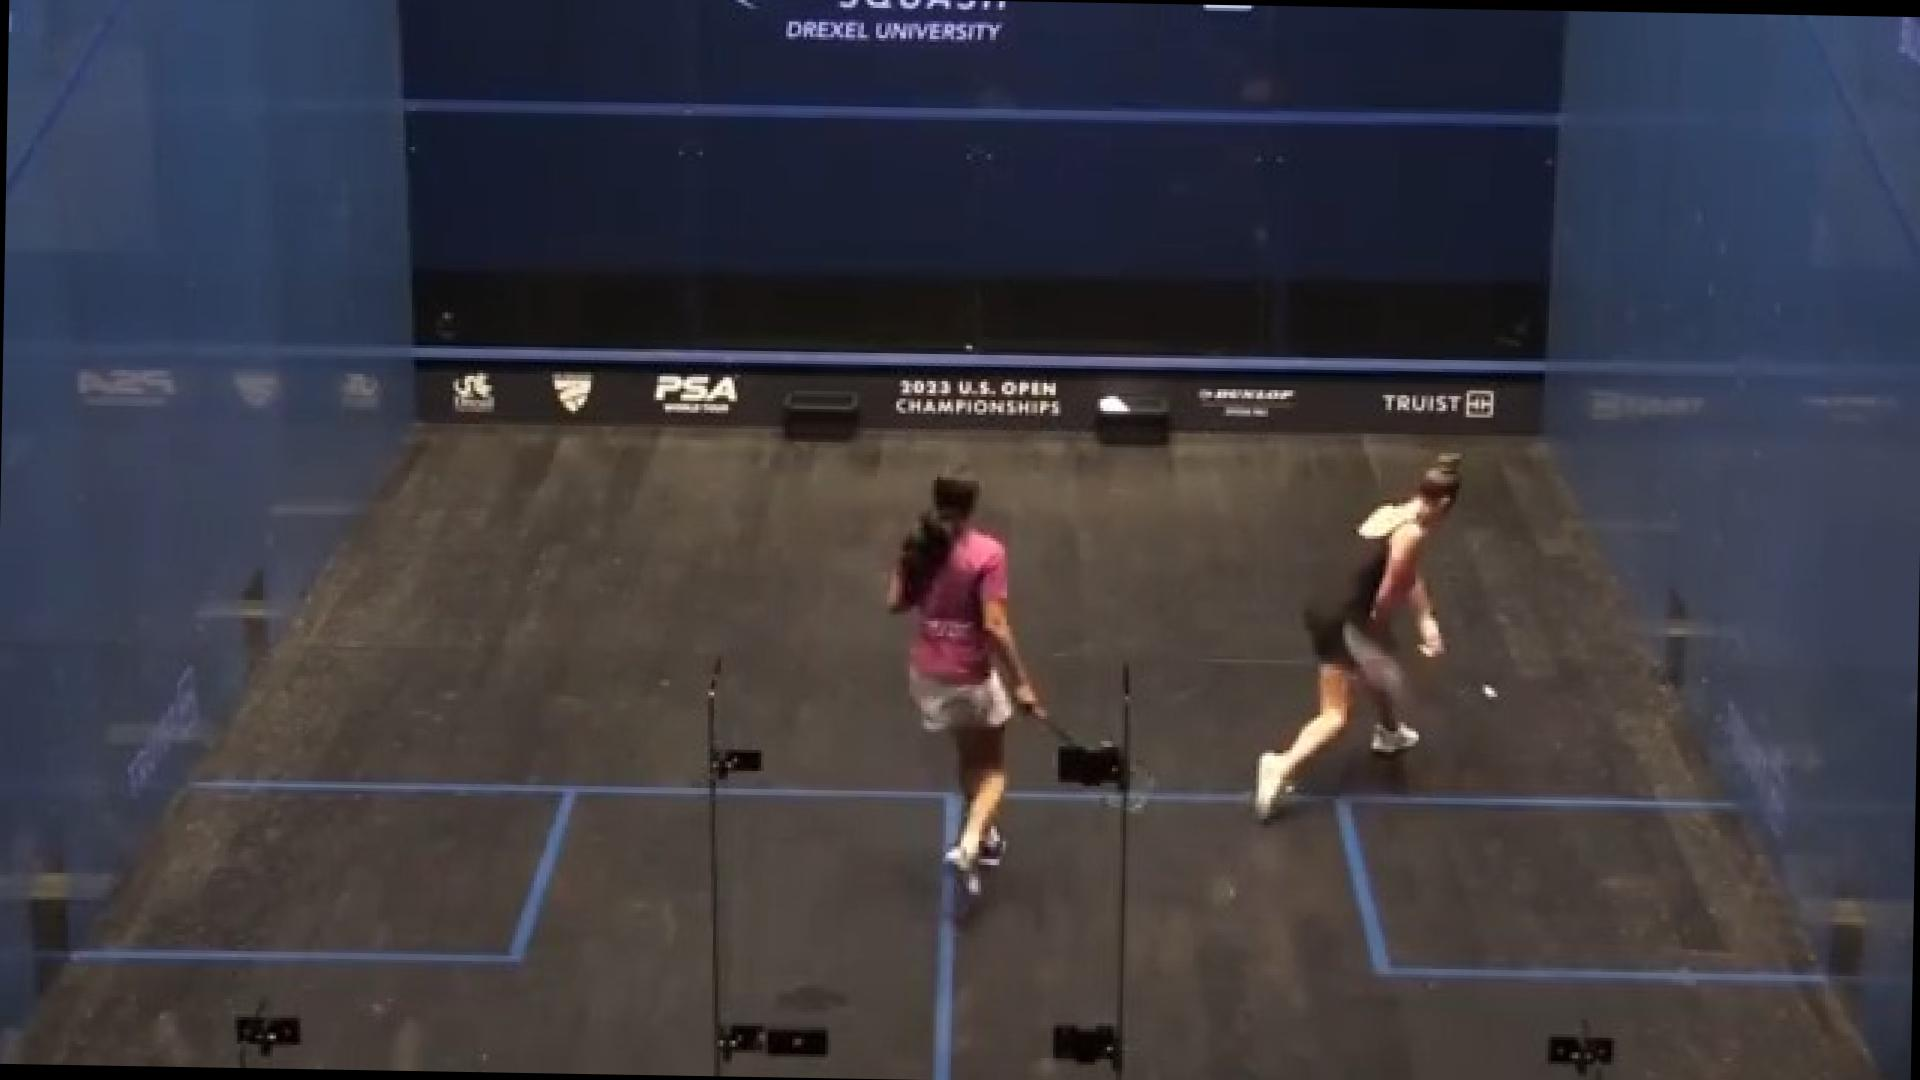Squash-Ball: (1466, 673, 1513, 712)
